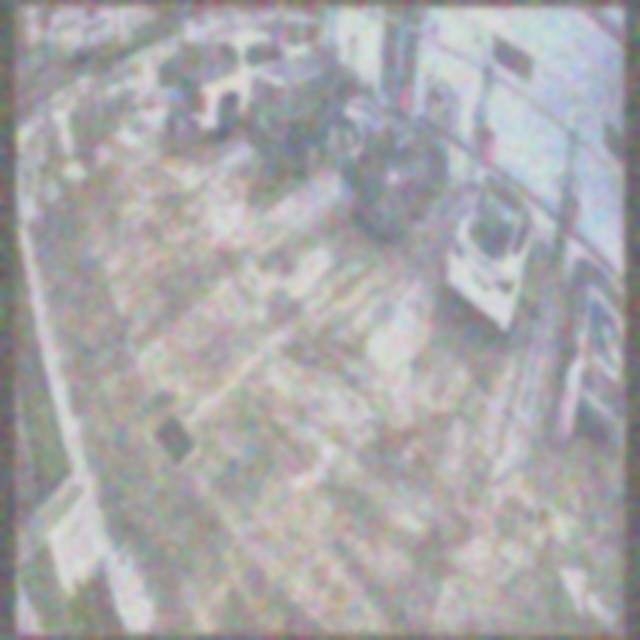Car: (245, 50, 374, 171), (446, 173, 538, 341), (343, 91, 449, 233)
